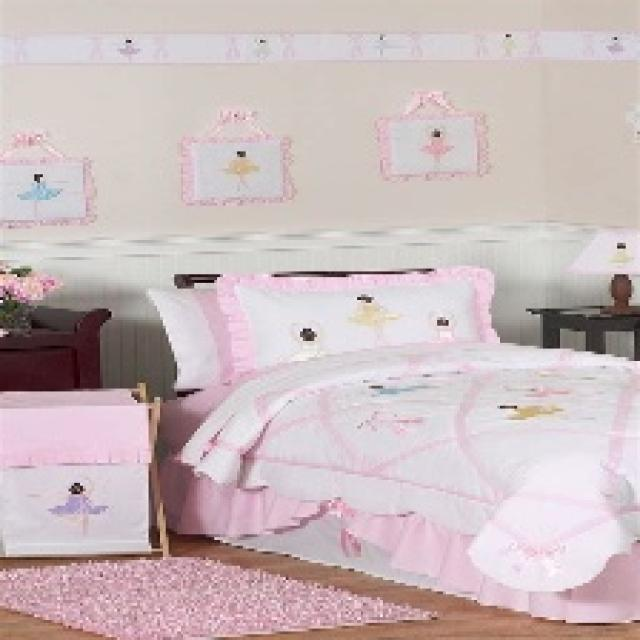Bed: (149, 266, 637, 623)
